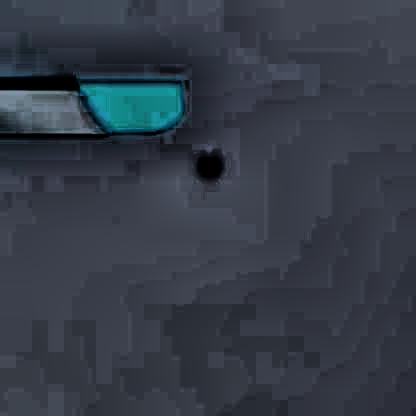golfball: (194, 143, 219, 173)
